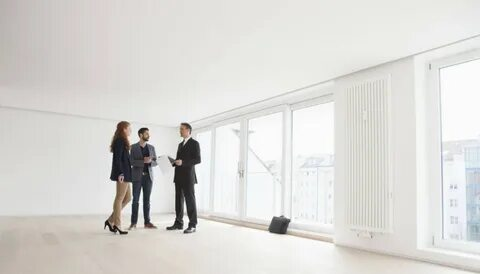awake: (167, 123, 201, 234), (103, 121, 132, 235), (128, 127, 158, 228)
